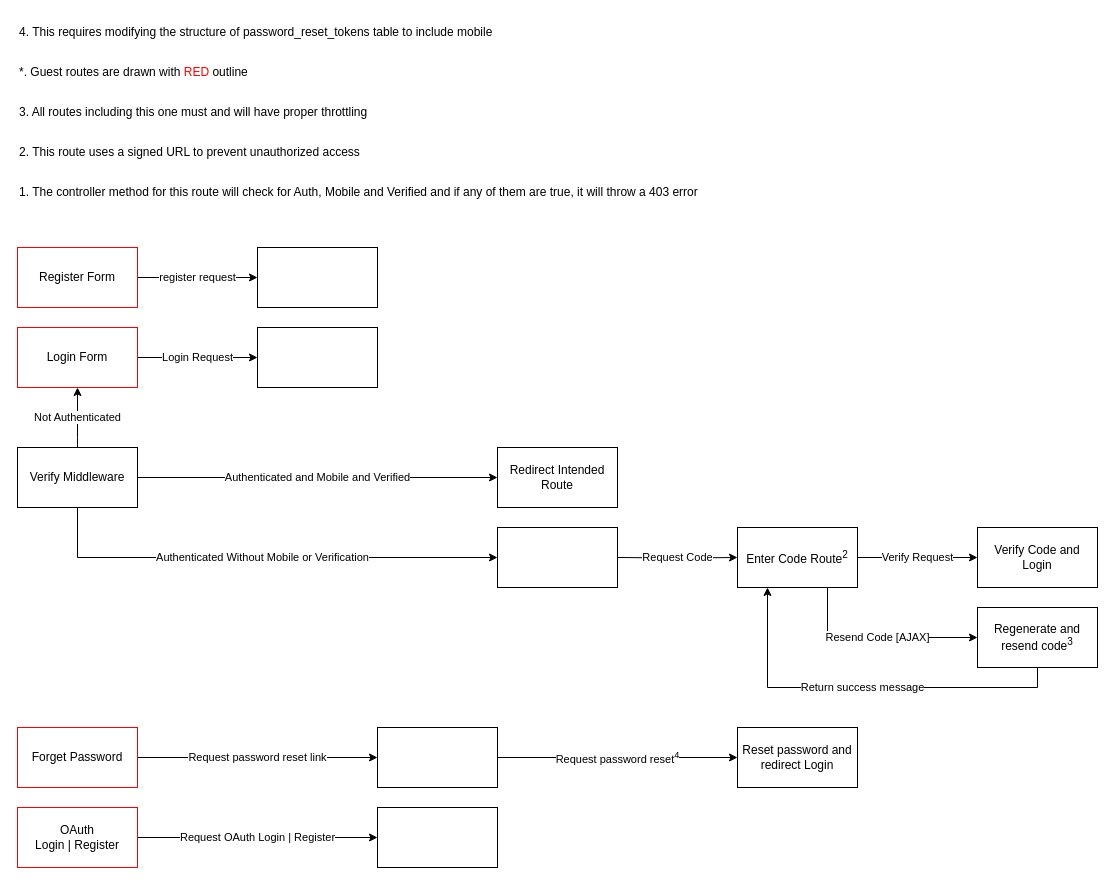
Some shapes in this 1115 by 885 pixel diagram are drawn without their labels. Here are the shapes that lost their labels. From the top down, the centre of each, then its label:
At (x=317, y=277): "Register and Login".
At (x=317, y=357): "Check Credentials and Login".
At (x=557, y=557): "Verify Notice Route 1".
At (x=437, y=757): "Password reset form".
At (x=437, y=837): "Callback and Login".
